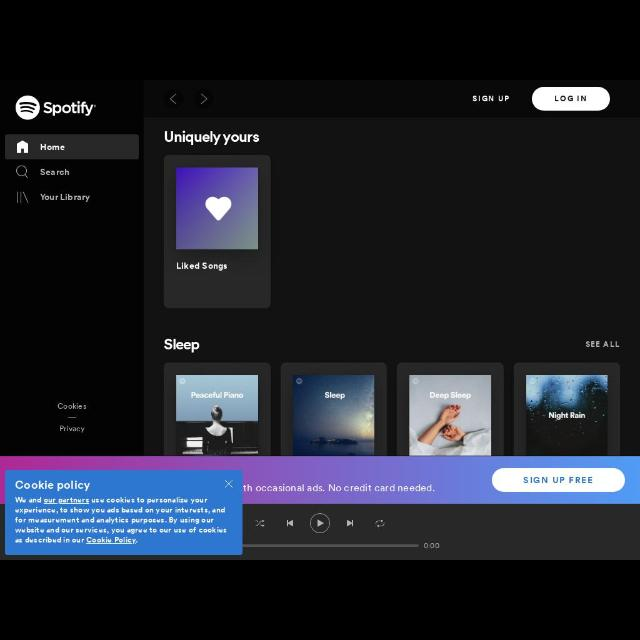button: (310, 513, 330, 533)
icon: (16, 164, 28, 180), (17, 140, 29, 154), (16, 192, 28, 204), (198, 93, 208, 105), (223, 480, 234, 490), (255, 519, 265, 529), (285, 518, 295, 528), (346, 520, 356, 528), (375, 520, 385, 528), (170, 93, 177, 103), (317, 519, 323, 527)
image: (176, 167, 260, 249), (177, 375, 259, 457), (527, 375, 607, 457), (410, 376, 490, 456), (296, 376, 374, 456), (14, 94, 41, 120)
text: (15, 497, 227, 545), (243, 484, 434, 494), (164, 130, 260, 146), (14, 481, 92, 491), (45, 102, 95, 116), (523, 476, 593, 486), (163, 339, 199, 353), (176, 262, 226, 272), (552, 95, 590, 102), (60, 424, 84, 434), (56, 402, 85, 410), (472, 96, 510, 102), (586, 342, 618, 348), (424, 542, 440, 550)
textbutton: (493, 470, 625, 492), (532, 86, 610, 112)
